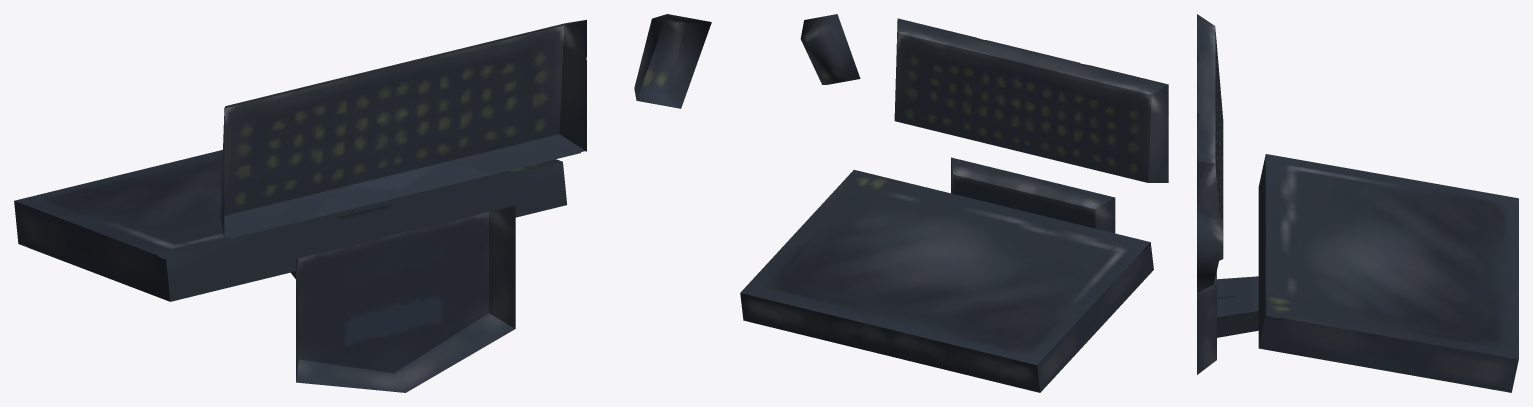
The model's file is props_pc.fbx.
3 renders of one model, left to right at view 1: azimuth 30°, elevation 25°; view 2: azimuth 150°, elevation 25°; view 3: azimuth 270°, elevation 25°, orthographic. The views are drawn at different scales.
Parts seen in each view (by area): view 1: pc; view 2: pc; view 3: pc.
Boxes of the visible parts, box(x1,y1,x2,y2) form: pc: box(14, 14, 711, 392); pc: box(740, 14, 1168, 392); pc: box(1197, 14, 1518, 392).
Bounding box in the file's own units: 0.9658 × 0.6017 × 0.6406.
1 material, 1 textured.
